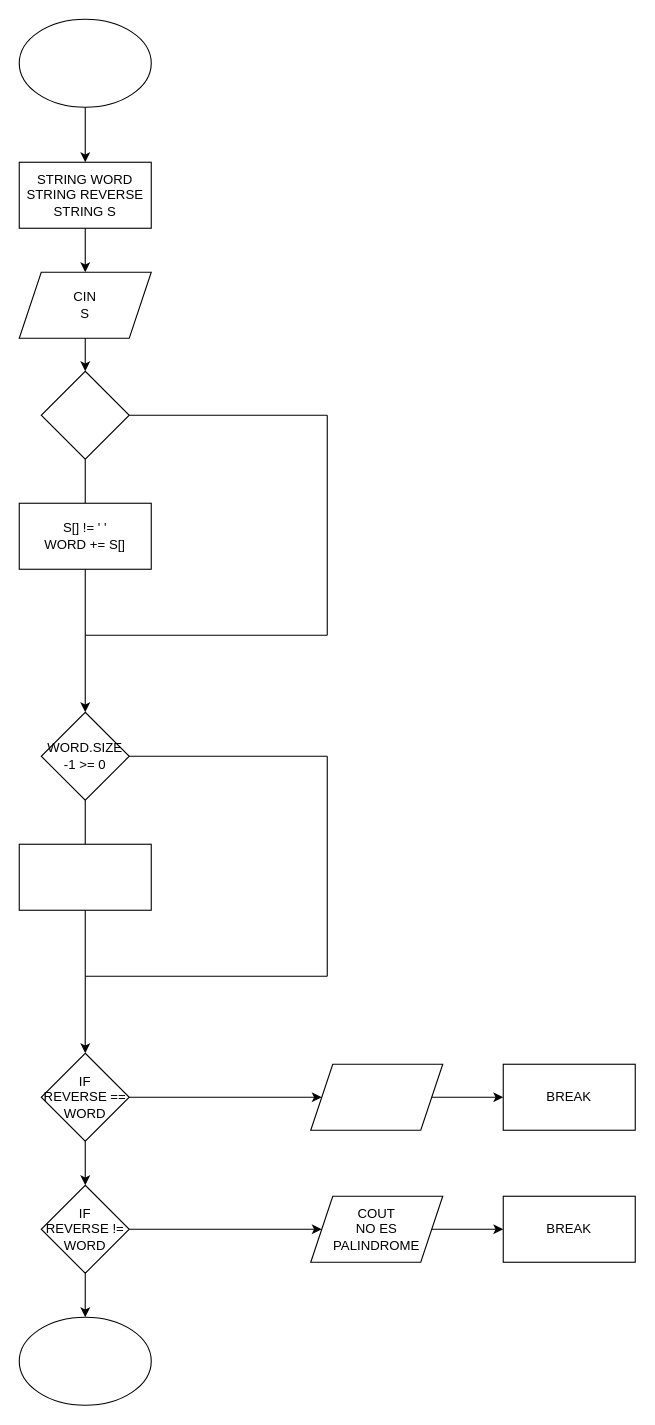
This 655x1425 diagram has some shape labels left out. Here are the shapes that lost their labels. From the top down, the box of each, then its label:
(18, 18, 151, 107): START
(40, 370, 129, 459): 0 < S.SIZE
(18, 843, 151, 910): REVERSE += S[]
(310, 1063, 443, 1130): COUT ES PALINDROME
(18, 1316, 151, 1405): END
